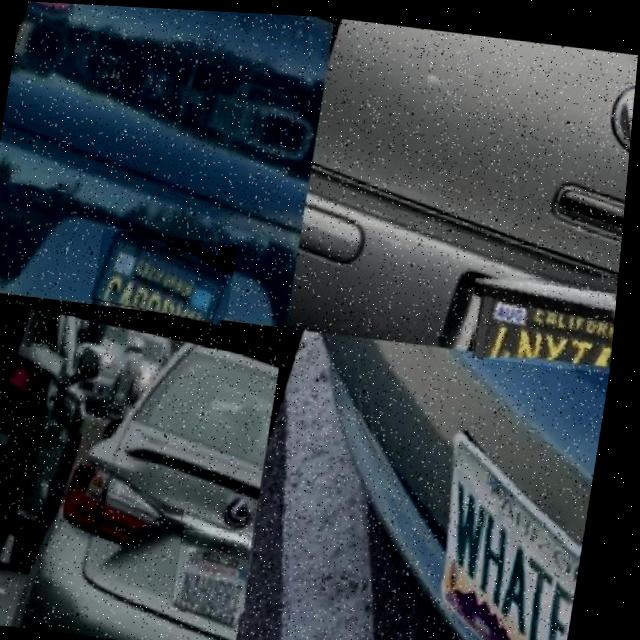LicensePlate: (452, 420, 592, 640), (95, 227, 242, 322), (478, 272, 621, 353), (181, 522, 266, 615)
